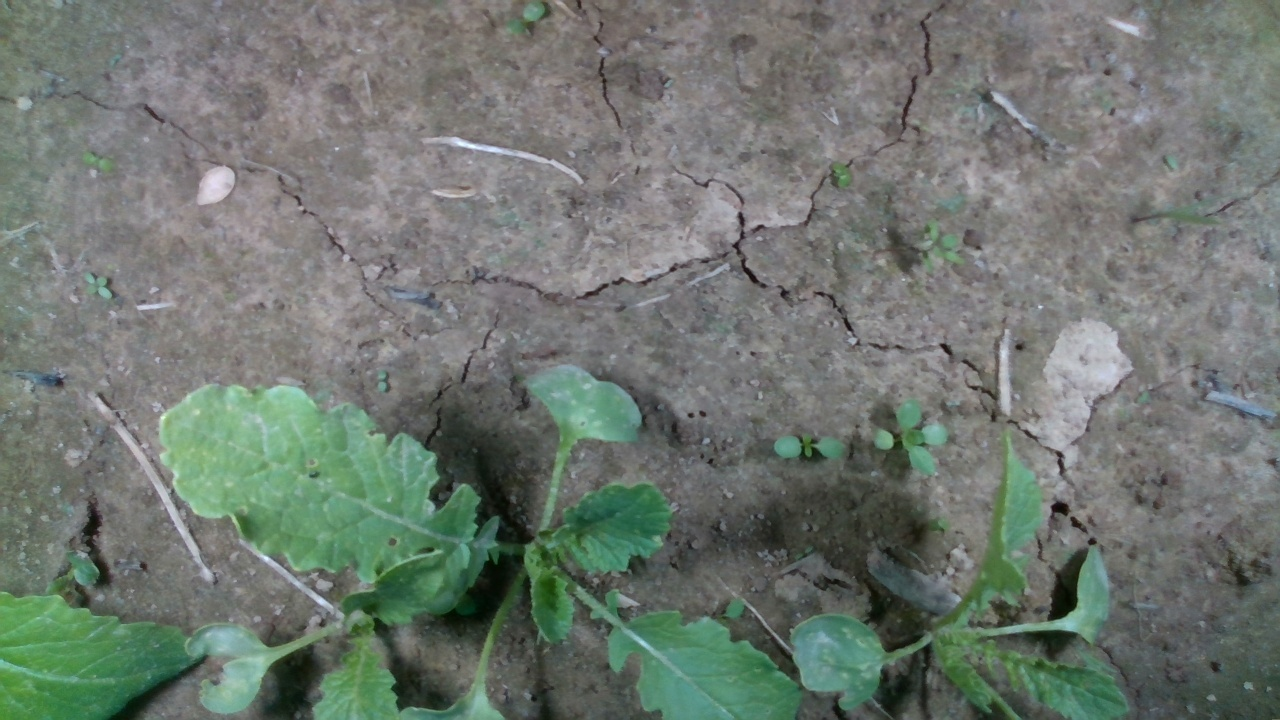weed: (773, 430, 849, 463), (81, 270, 113, 301), (829, 159, 855, 192), (82, 152, 116, 173), (375, 370, 390, 393)
